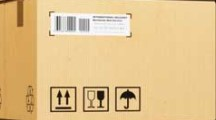stock: (1, 1, 216, 119)
